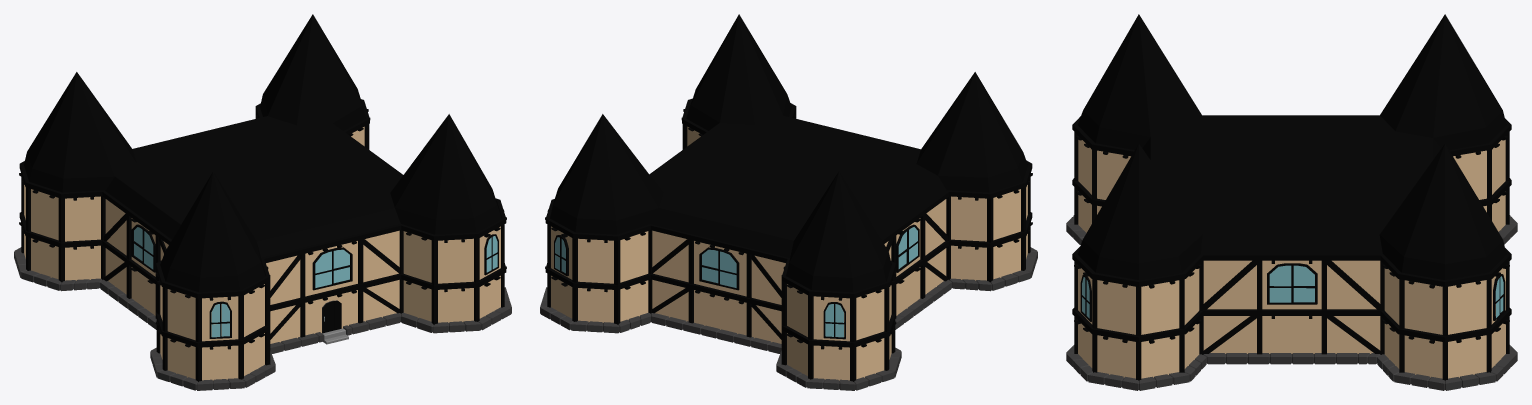
File: Rest room.fbx
3 renders of one model, left to right at view 1: azimuth 30°, elevation 25°; view 2: azimuth 150°, elevation 25°; view 3: azimuth 270°, elevation 25°, orthographic. The views are drawn at different scales.
Parts seen in each view (by area): view 1: Roof, Walls, Pillars, Stones, Windows wood, Door; view 2: Roof, Walls, Pillars, Stones, Windows wood; view 3: Roof, Walls, Pillars, Stones, Windows wood.
Part boxes in pixels (x1=…): Roof: x1=24, y1=14, x2=501, y2=292; Walls: x1=24, y1=126, x2=500, y2=380; Pillars: x1=19, y1=99, x2=506, y2=381; Stones: x1=14, y1=247, x2=511, y2=390; Windows wood: x1=131, y1=224, x2=498, y2=338; Door: x1=322, y1=300, x2=341, y2=333; Roof: x1=550, y1=14, x2=1027, y2=292; Walls: x1=551, y1=126, x2=1027, y2=380; Pillars: x1=545, y1=98, x2=1032, y2=381; Stones: x1=540, y1=247, x2=1037, y2=390; Windows wood: x1=554, y1=224, x2=919, y2=339; Roof: x1=1078, y1=14, x2=1506, y2=279; Walls: x1=1078, y1=140, x2=1505, y2=378; Pillars: x1=1072, y1=116, x2=1511, y2=380; Stones: x1=1066, y1=215, x2=1517, y2=390; Windows wood: x1=1080, y1=263, x2=1505, y2=321.
Size of the model in its own units: 3226 by 1724 by 3226.
